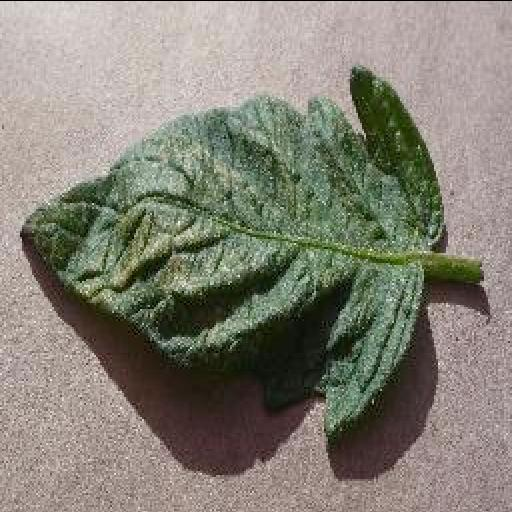disease_tomato: (20, 68, 446, 440)
